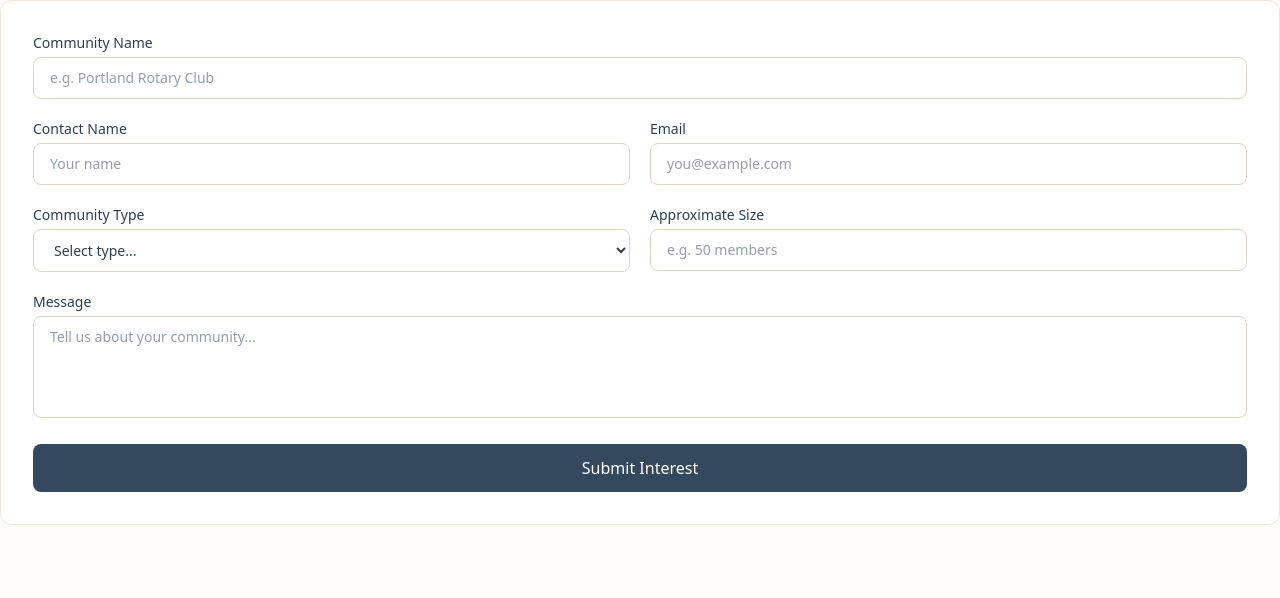
PartnershipInterestForm › shows error on API failure
Type "Test" into the field labelled "Community Name".
click(640, 78); type("Test")  # box top-left (33, 57), bottom-right (1247, 99)
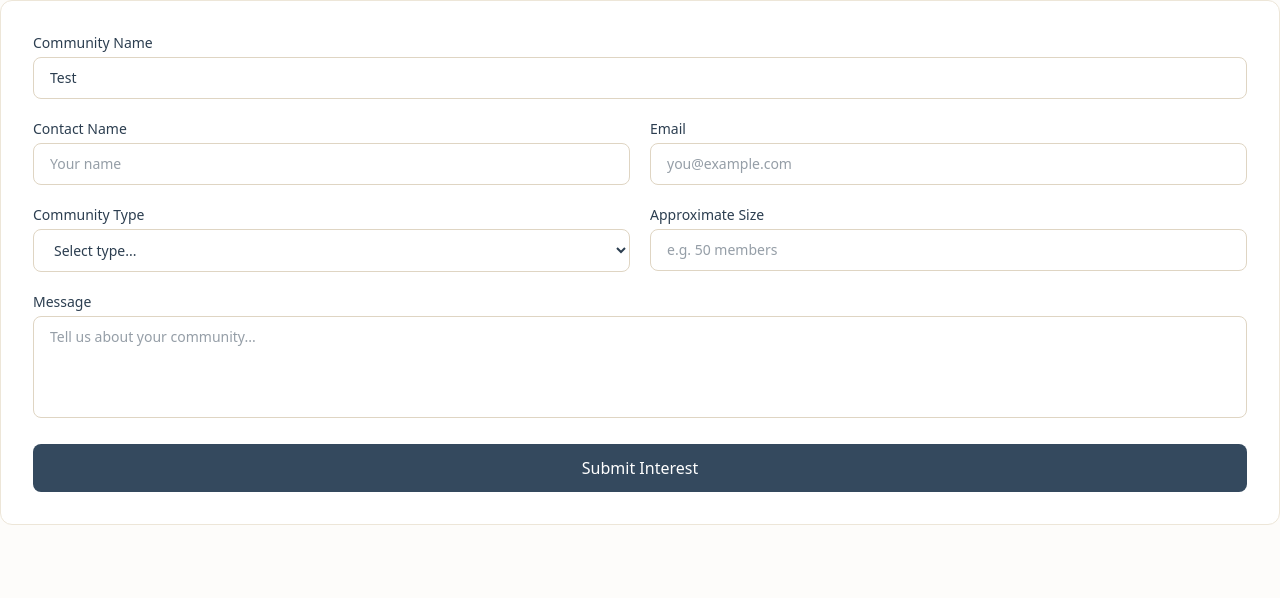
Type "John" into the field labelled "Contact Name".
click(332, 164); type("John")  # box top-left (33, 143), bottom-right (630, 185)
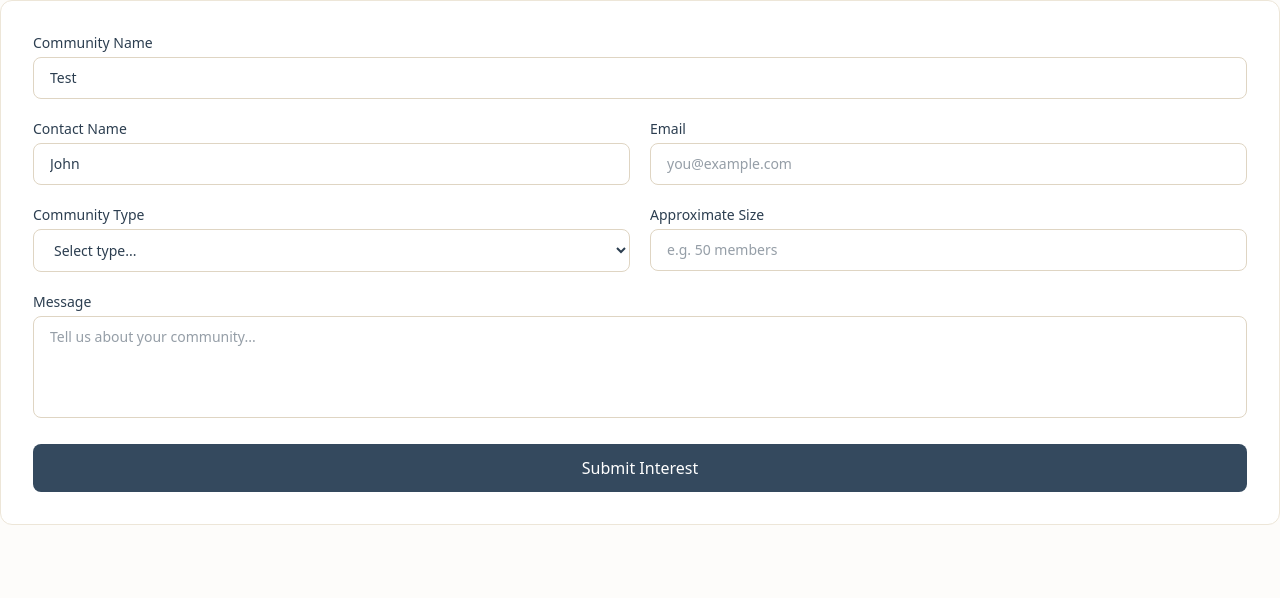
Type "john@test.com" into the field labelled "Email".
click(948, 164); type("john@test.com")  # box top-left (650, 143), bottom-right (1247, 185)
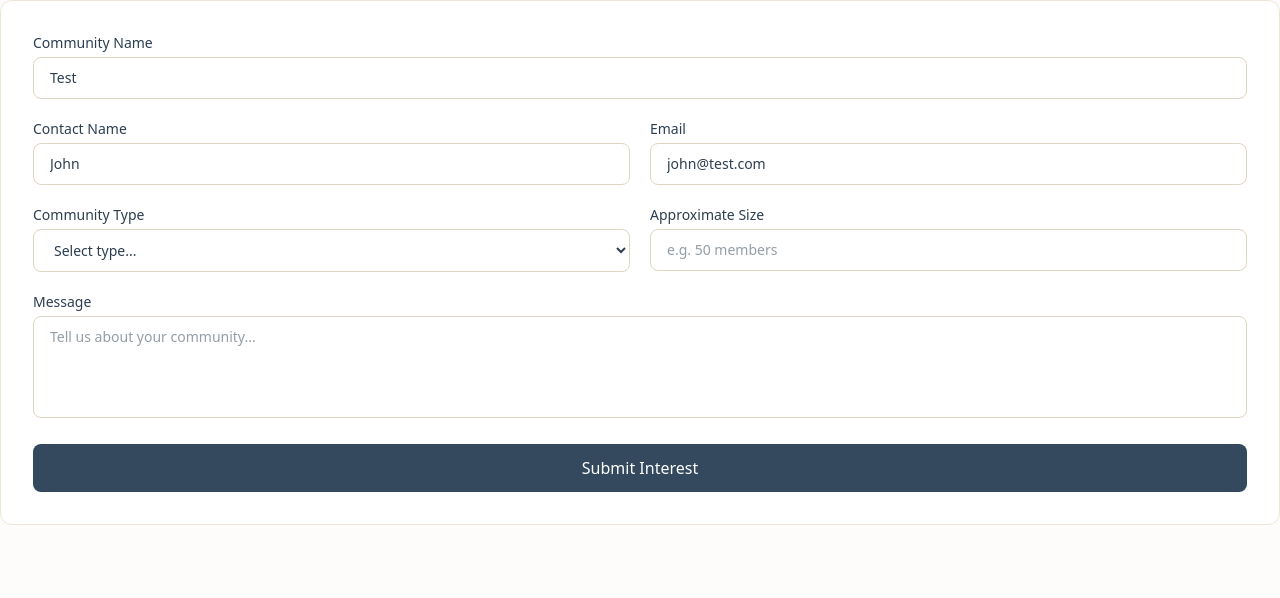
Select "Rotary Club" in the dropdown labelled "Community Type" at (332, 250), box top-left (33, 229), bottom-right (630, 272)
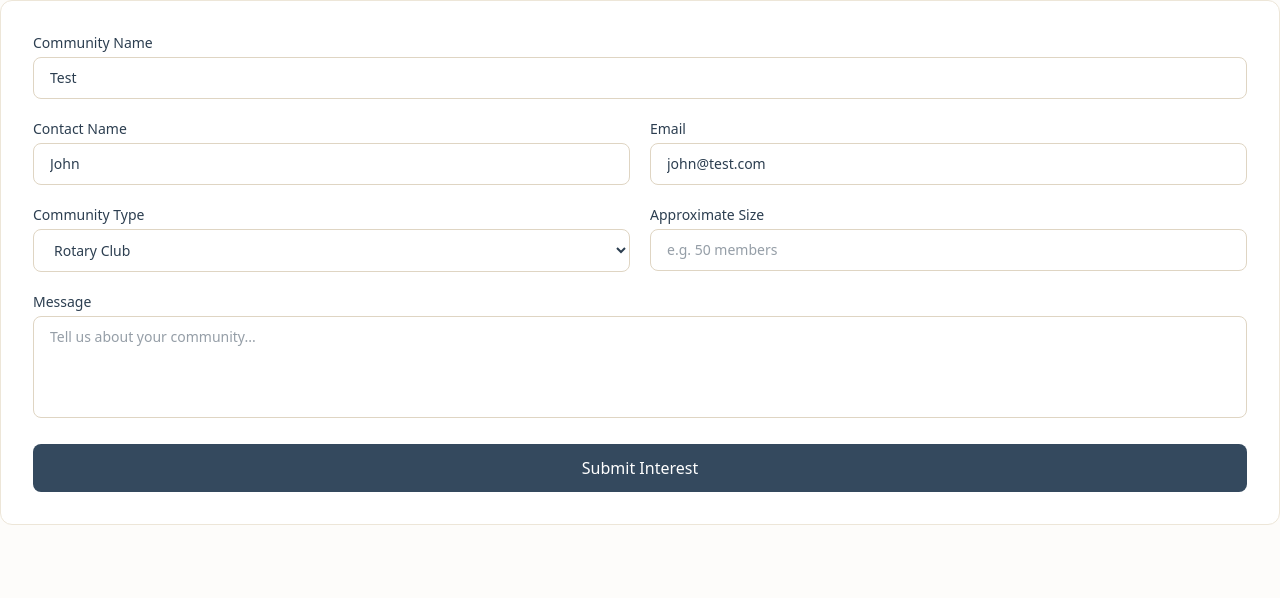
Click the button "Submit Interest".
click(640, 468)  # box top-left (33, 444), bottom-right (1247, 492)
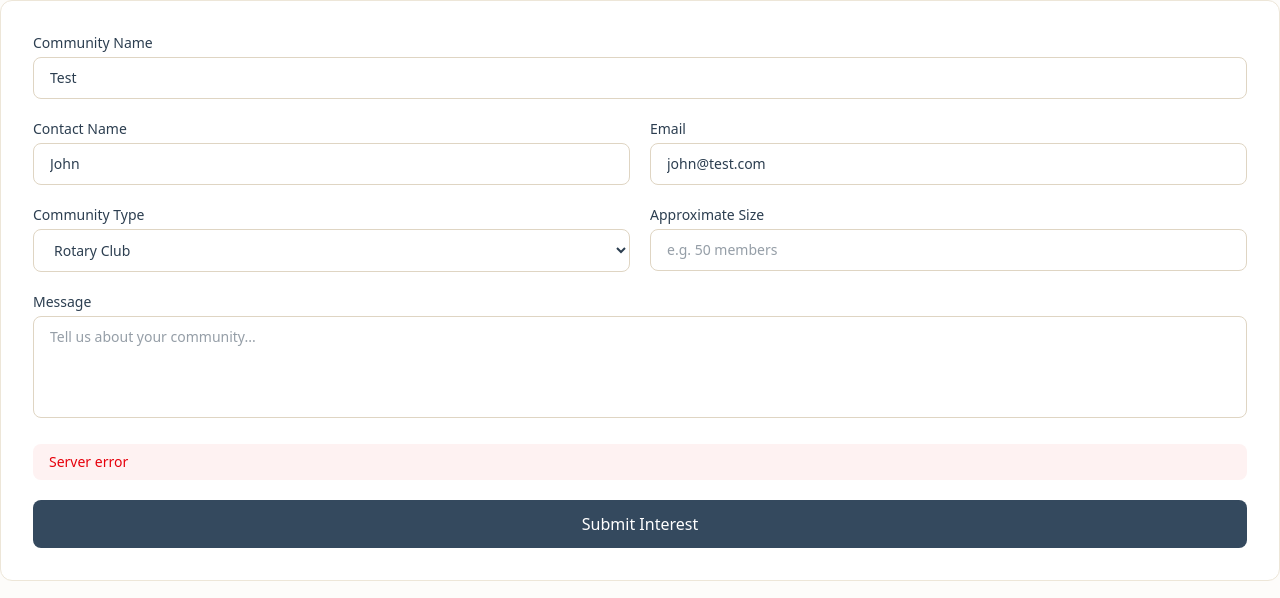
Check: the text "Server error" is shown, box top-left (33, 444), bottom-right (1247, 480)
